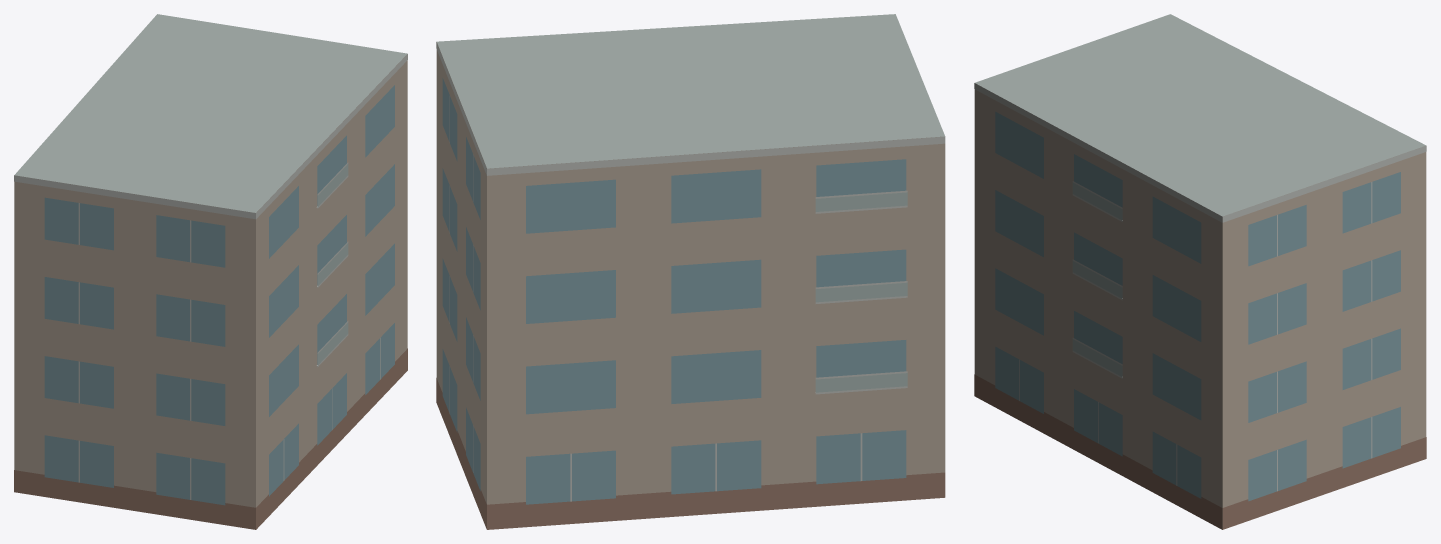
File: survey-upis-32816454.glb
3 views of the same model, side by side, from view 1: azimuth 30°, elevation 25°; view 2: azimuth 150°, elevation 25°; view 3: azimuth 270°, elevation 25° (orthographic). The views are drawn at different scales.
Visible parts, largest first — view 1: survey-upis-32816454.tmp; view 2: survey-upis-32816454.tmp; view 3: survey-upis-32816454.tmp.
Part boxes in pixels (left/top/right/bottom): survey-upis-32816454.tmp: left=14, top=14, right=407, bottom=529; survey-upis-32816454.tmp: left=436, top=14, right=945, bottom=529; survey-upis-32816454.tmp: left=974, top=14, right=1426, bottom=529.
Bounding box in the file's own units: 16.93 × 12.2 × 15.96.
